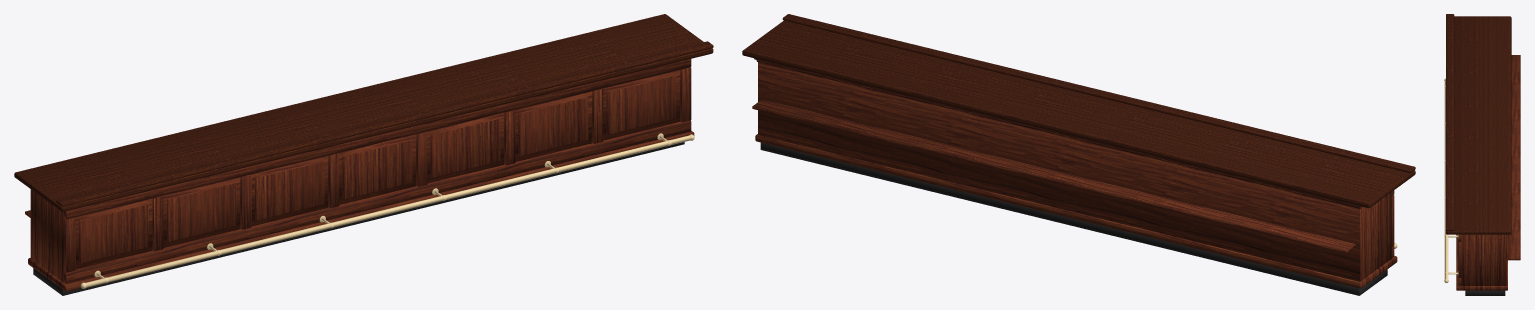
File: bar_counter.glb
The picture shows the model from 3 angles, left to right: view 1: azimuth 30°, elevation 25°; view 2: azimuth 150°, elevation 25°; view 3: azimuth 270°, elevation 25°; orthographic projection. The views are drawn at different scales.
Visible parts, largest first — view 1: Bar top, Bottom rail, Drink rail, Top rail, Foot rail, Panel field 5, Panel field 3, Panel field 4, Panel field 6, Panel field 0, Panel field 1, Panel field 2 (+18 smaller); view 2: Body, Bar top, Back shelf, Drink rail, Toe kick, Plinth, Crown lower, Crown upper; view 3: Bar top, Body, Back shelf, Drink rail, Foot rail, Plinth, Toe kick, Stile 7.
Part boxes in pixels (bbox=[...]): Bar top: bbox=[14, 14, 713, 211]; Bottom rail: bbox=[64, 120, 691, 283]; Drink rail: bbox=[56, 41, 713, 206]; Top rail: bbox=[64, 59, 691, 219]; Foot rail: bbox=[85, 135, 690, 287]; Panel field 5: bbox=[518, 96, 588, 156]; Panel field 3: bbox=[342, 139, 412, 199]; Panel field 4: bbox=[430, 117, 500, 177]; Panel field 6: bbox=[606, 74, 676, 134]; Panel field 0: bbox=[79, 203, 148, 263]; Panel field 1: bbox=[167, 182, 236, 242]; Panel field 2: bbox=[255, 160, 324, 220]; Body: bbox=[758, 62, 1392, 281]; Bar top: bbox=[742, 20, 1415, 207]; Back shelf: bbox=[752, 99, 1355, 253]; Drink rail: bbox=[782, 14, 1415, 173]; Toe kick: bbox=[760, 142, 1387, 295]; Plinth: bbox=[755, 134, 1397, 288]; Crown lower: bbox=[756, 60, 1362, 208]; Crown upper: bbox=[754, 58, 1361, 207]; Bar top: bbox=[1446, 16, 1511, 234]; Body: bbox=[1461, 234, 1506, 285]; Back shelf: bbox=[1506, 55, 1520, 260]; Drink rail: bbox=[1446, 14, 1454, 230]; Foot rail: bbox=[1444, 79, 1448, 279]; Plinth: bbox=[1456, 234, 1507, 290]; Toe kick: bbox=[1465, 290, 1505, 295]; Stile 7: bbox=[1458, 242, 1461, 277].
Size of the model in its own units: 7.3 by 1.13 by 1.09.
Materials: 4 (2 with a texture image).
